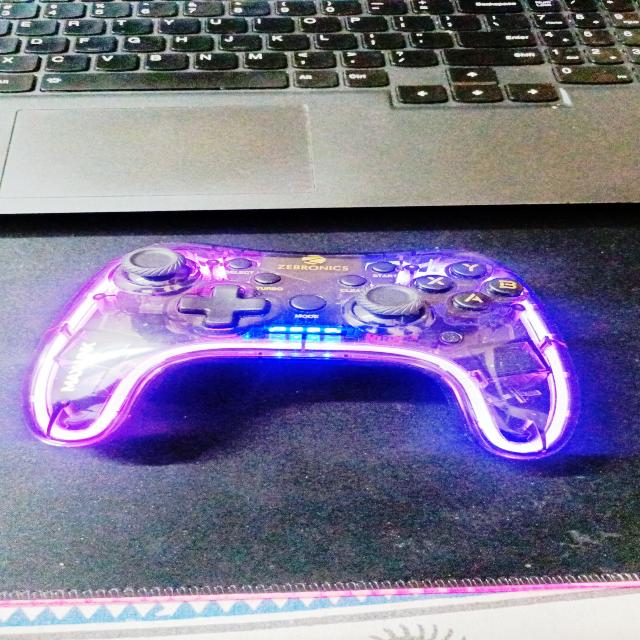gamepad: (21, 242, 581, 460)
